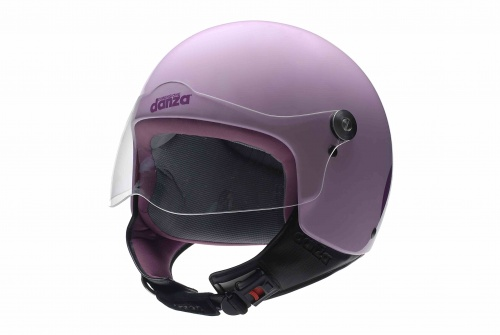helmet: (123, 26, 390, 274)
